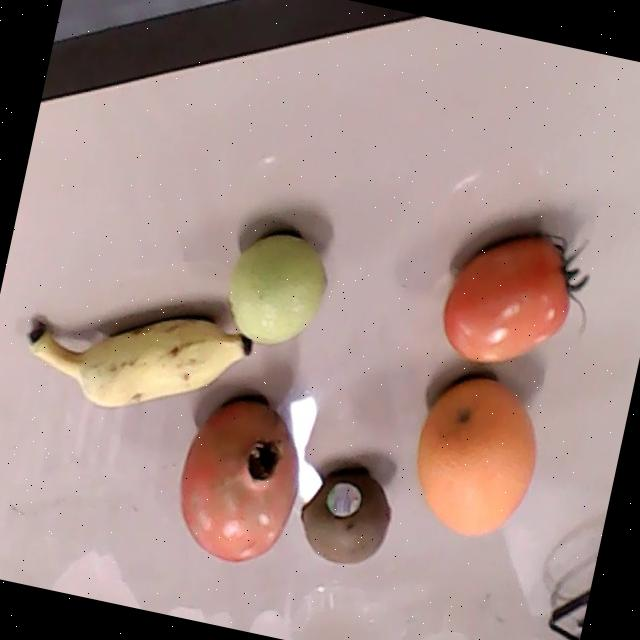kiwi: (299, 472, 391, 563)
lemon: (228, 233, 326, 343)
orange: (417, 378, 535, 535)
pomegranate: (179, 399, 299, 561)
tomato: (443, 232, 588, 362)
